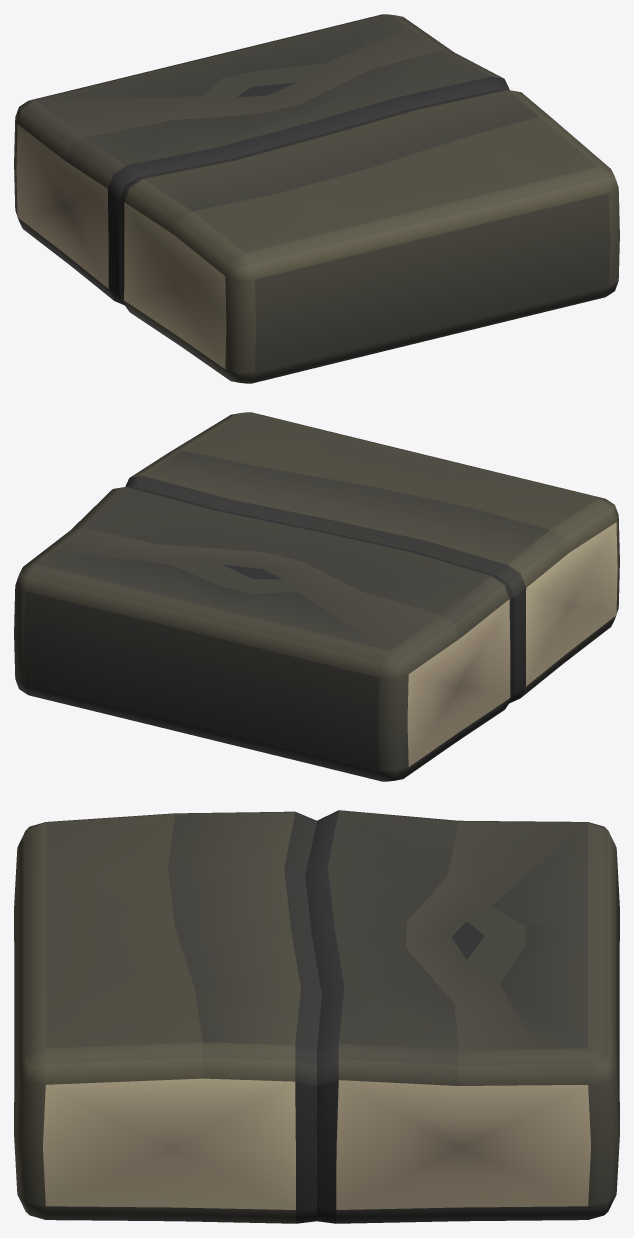
The model's file is ColdWood_Bridge.fbx.
3 views of the same model, one above another, from view 1: azimuth 30°, elevation 25°; view 2: azimuth 150°, elevation 25°; view 3: azimuth 270°, elevation 25° (orthographic). The views are drawn at different scales.
Visible parts, largest first — view 1: ColdWood_Bridge_LOD0; view 2: ColdWood_Bridge_LOD0; view 3: ColdWood_Bridge_LOD0.
Part boxes in pixels (box(x1,y1,x2,y2)): ColdWood_Bridge_LOD0: box(14, 14, 619, 383); ColdWood_Bridge_LOD0: box(14, 412, 619, 781); ColdWood_Bridge_LOD0: box(14, 810, 619, 1223).
Size of what is drawn, in the model's own units: 1.13 by 0.3664 by 1.13.
